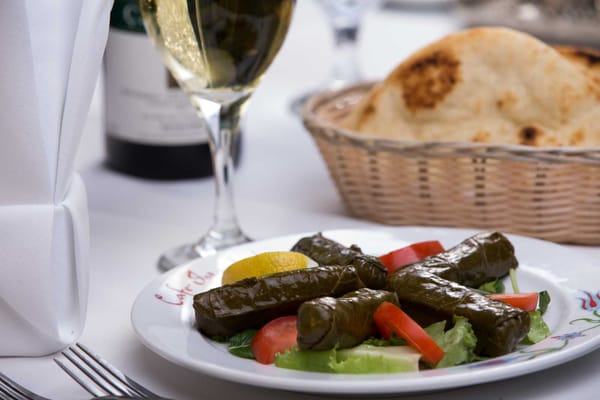sushi: (300, 50, 600, 243)
